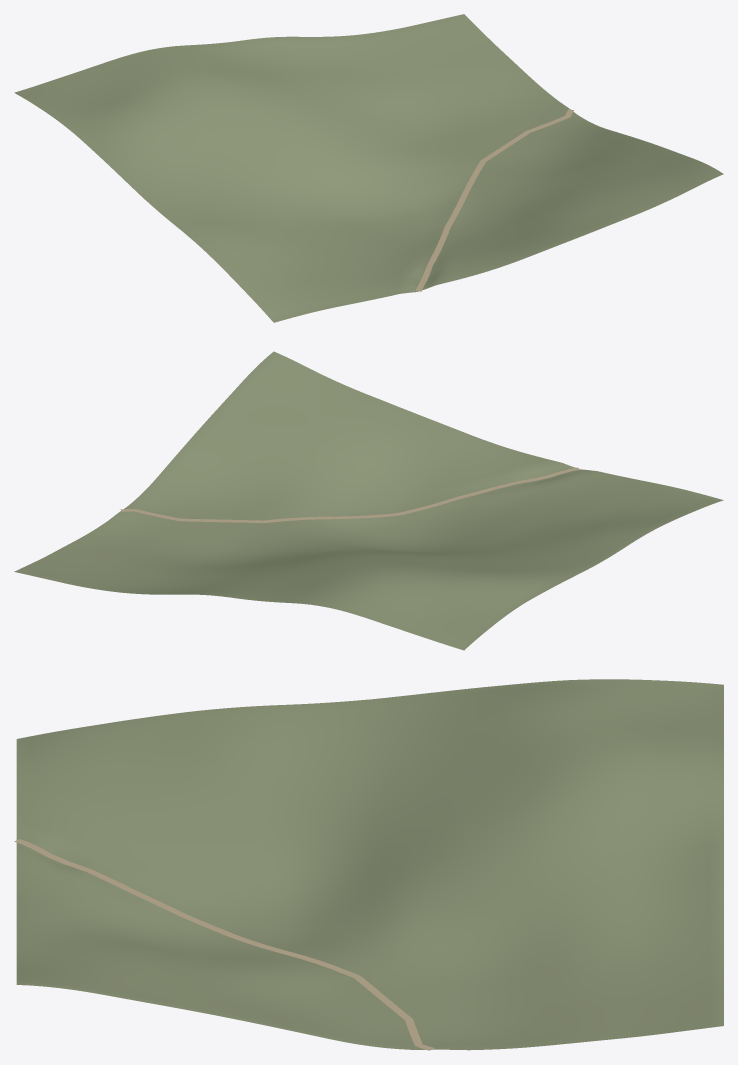
3 renders of one model, top to bottom at view 1: azimuth 30°, elevation 25°; view 2: azimuth 150°, elevation 25°; view 3: azimuth 270°, elevation 25°, orthographic. The views are drawn at different scales.
Visible parts, largest first — view 1: ground, path; view 2: ground, path; view 3: ground, path.
Boxes of the visible parts, <box> form: ground: <box>14,14,723,322</box>; path: <box>416,109,573,291</box>; ground: <box>14,351,723,650</box>; path: <box>120,467,579,523</box>; ground: <box>16,679,723,1050</box>; path: <box>14,839,434,1050</box>.
Size of the model in its own units: 251 by 38.61 by 251.
